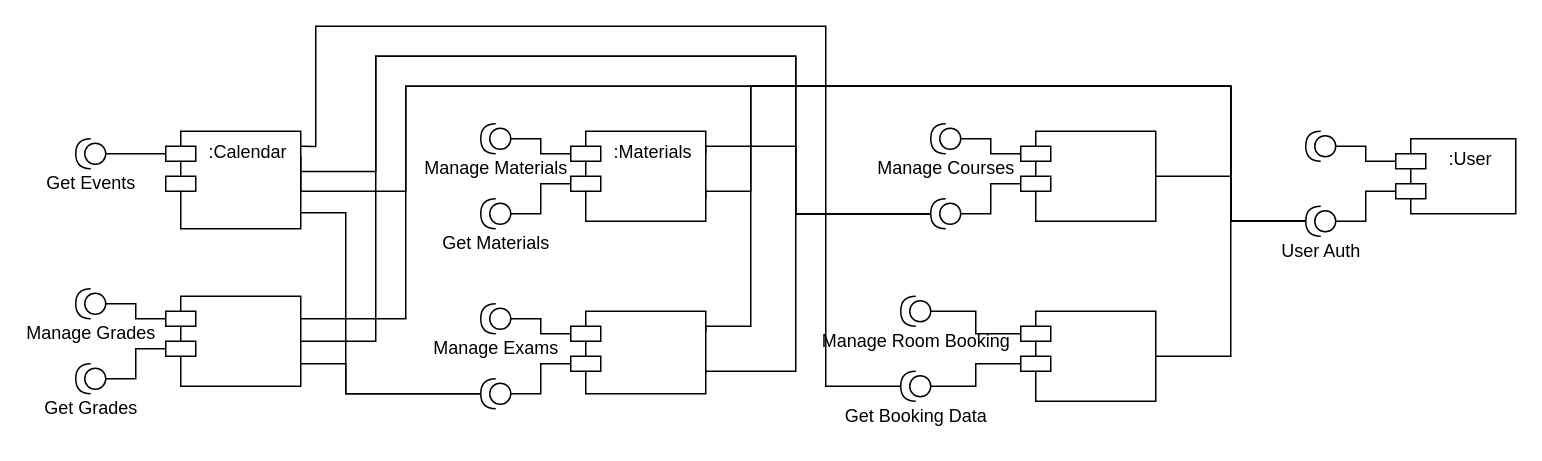
Image size: 1542x461. Some labels were removed from this diagram. Here are the shapes that lost their labels. From the top down, the centre of each, then its label:
(1320,145): Get User Data
(1087,175): :Courses
(945,213): Get Courses
(232,340): :Grades
(637,352): :Exams
(1087,355): :Room Booking
(495,393): Get Exams
